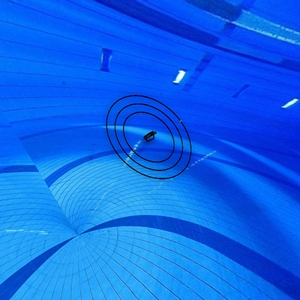circle: (102, 94, 202, 181)
submarine: (142, 126, 160, 149)
